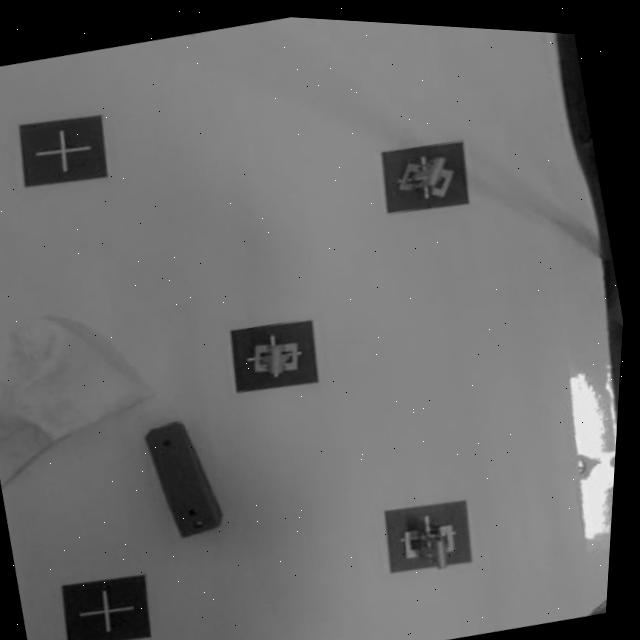pick1: (378, 495, 476, 579)
pick2: (376, 131, 474, 218)
pick3: (226, 314, 322, 398)
